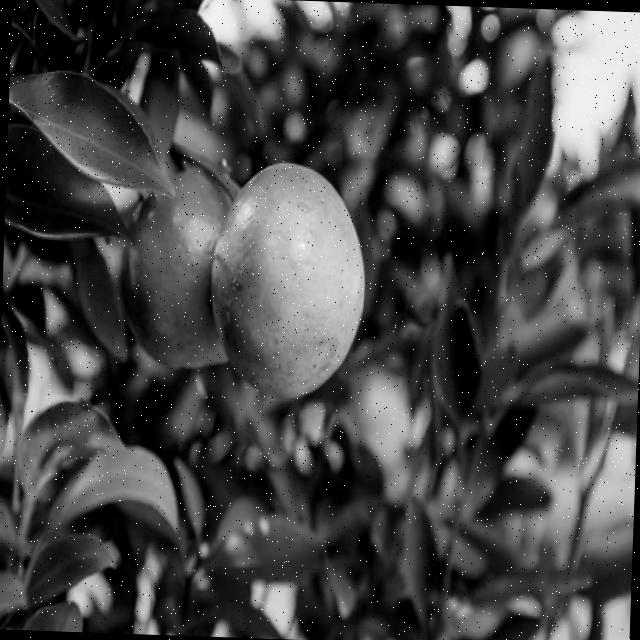Unripe: (208, 156, 369, 402)
